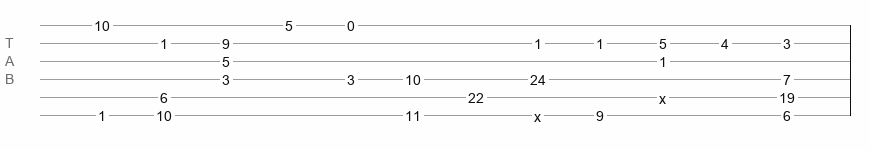0: (347, 18, 355, 28)
1: (98, 108, 106, 118), (160, 36, 168, 46), (534, 36, 542, 46), (596, 36, 604, 46), (659, 54, 667, 64)
10: (94, 18, 110, 28), (156, 108, 172, 118), (405, 72, 421, 82)
11: (405, 108, 421, 118)
19: (779, 90, 795, 100)
22: (468, 90, 484, 100)
24: (530, 72, 546, 82)
3: (222, 72, 230, 82), (347, 72, 355, 82), (783, 36, 791, 46)
4: (721, 36, 729, 46)
5: (222, 54, 230, 64), (285, 18, 293, 28), (659, 36, 667, 46)
6: (160, 90, 168, 100), (783, 108, 791, 118)
7: (783, 72, 791, 82)
9: (222, 36, 230, 46), (596, 108, 604, 118)
x: (534, 109, 541, 117), (659, 91, 666, 99)
